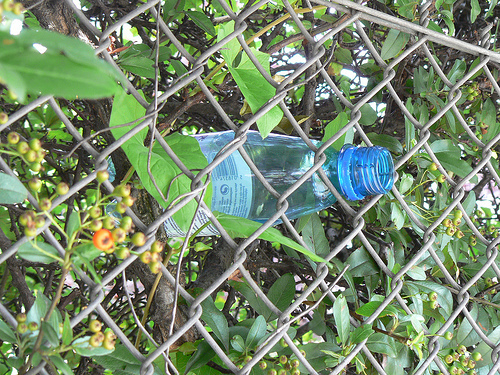litter: (99, 130, 394, 239)
